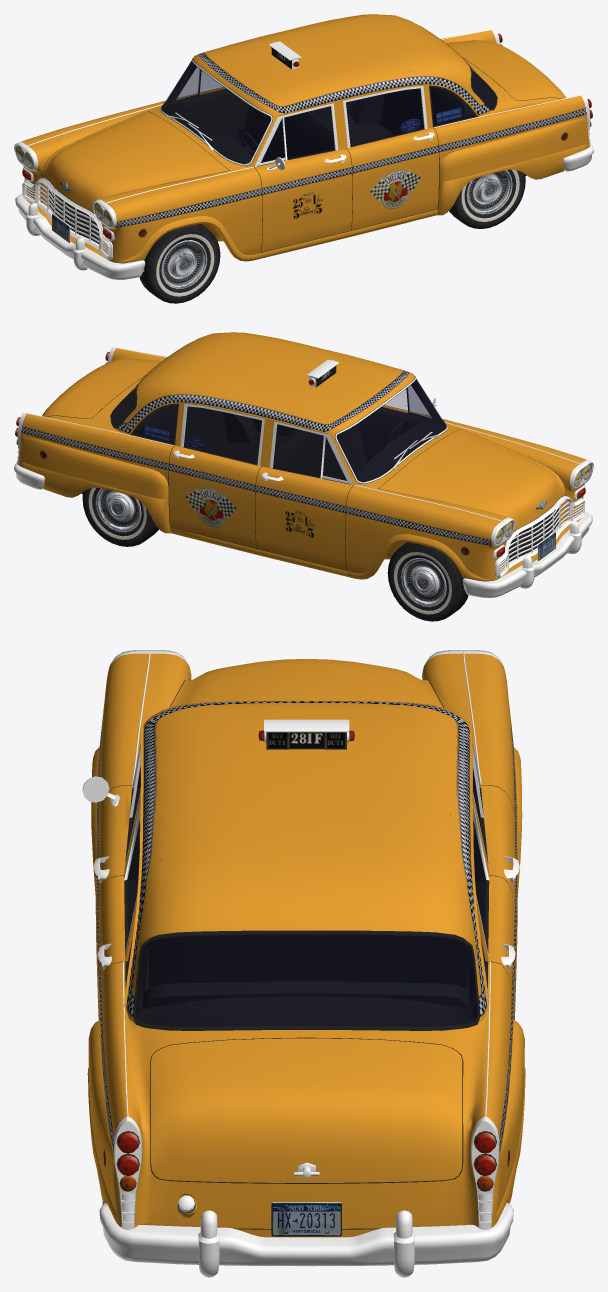
Rendered from cab_wheels.glb.
3 views of the same model, one above another, from view 1: azimuth 30°, elevation 25°; view 2: azimuth 150°, elevation 25°; view 3: azimuth 270°, elevation 25° (orthographic). The views are drawn at different scales.
Parts seen in each view (by area): view 1: 0_cab, front_wheels, back_wheels; view 2: 0_cab, front_wheels, back_wheels; view 3: 0_cab.
Boxes of the visible parts, left/top/right/bottom form: 0_cab: left=14, top=14, right=593, bottom=279; front_wheels: left=139, top=224, right=220, bottom=303; back_wheels: left=449, top=169, right=525, bottom=228; 0_cab: left=14, top=332, right=593, bottom=597; front_wheels: left=387, top=542, right=468, bottom=621; back_wheels: left=82, top=487, right=158, bottom=546; 0_cab: left=82, top=650, right=525, bottom=1277.
Size of the model in its own units: 5.08 by 1.72 by 1.92.
Materials: 10 (10 with a texture image).
